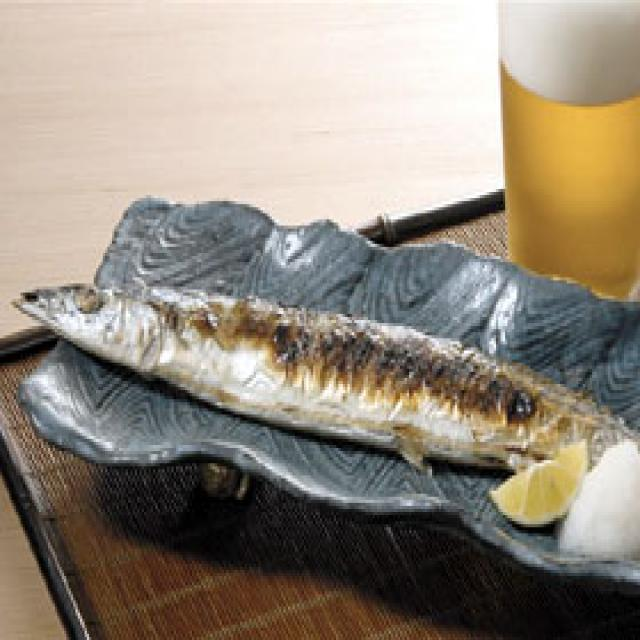熟制海鲜: (0, 250, 640, 469)
